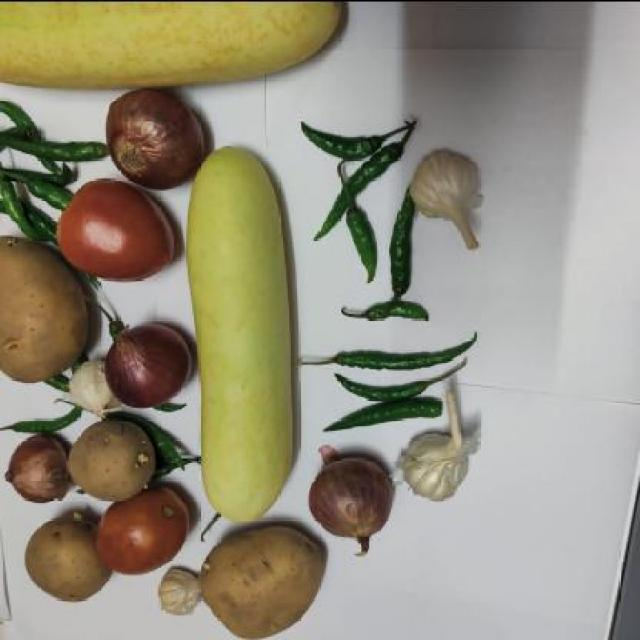Garlic: (395, 389, 491, 506), (409, 138, 500, 260)
Green Chili: (296, 109, 418, 297), (316, 294, 450, 435), (0, 100, 68, 228)
Onion: (103, 77, 212, 188), (102, 304, 203, 410), (308, 449, 404, 551)
Potato: (197, 520, 328, 640), (66, 405, 162, 509), (17, 506, 114, 603)
Tomato: (57, 172, 186, 290)
cucumber: (186, 136, 303, 522)
